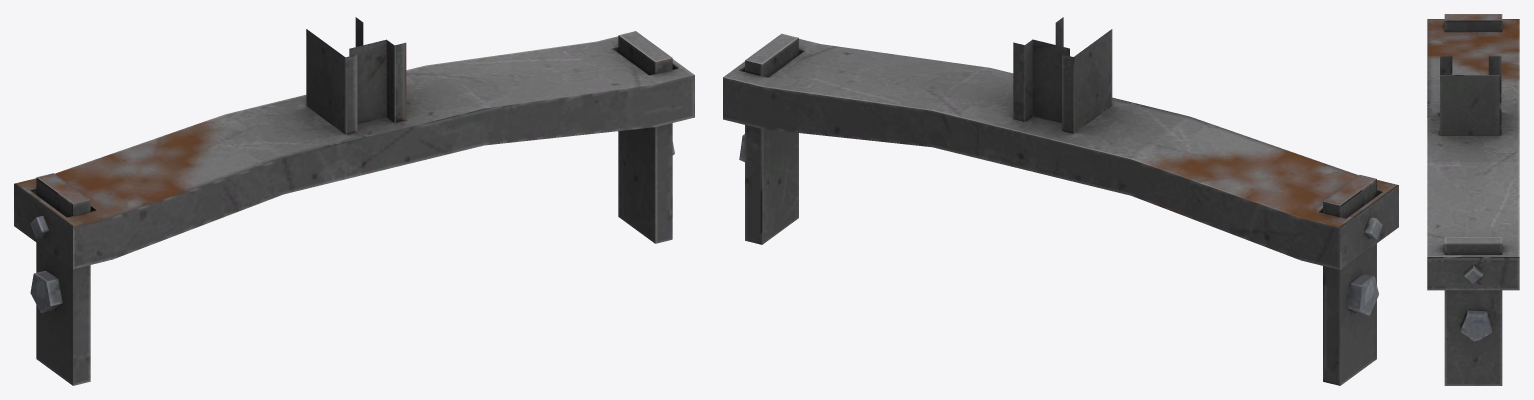
The model's file is roller_to_walled.glb.
3 views of the same model, side by side, from view 1: azimuth 30°, elevation 25°; view 2: azimuth 150°, elevation 25°; view 3: azimuth 270°, elevation 25° (orthographic). The views are drawn at different scales.
Visible parts, largest first — view 1: roller_to_walled; view 2: roller_to_walled; view 3: roller_to_walled.
Part boxes in pixels (x1,y1,x2,y2): roller_to_walled: (14,17,694,385); roller_to_walled: (723,17,1398,385); roller_to_walled: (1427,14,1519,385).
Size of the model in its own units: 1.06 by 0.4208 by 0.1697.
1 material, 1 textured.
